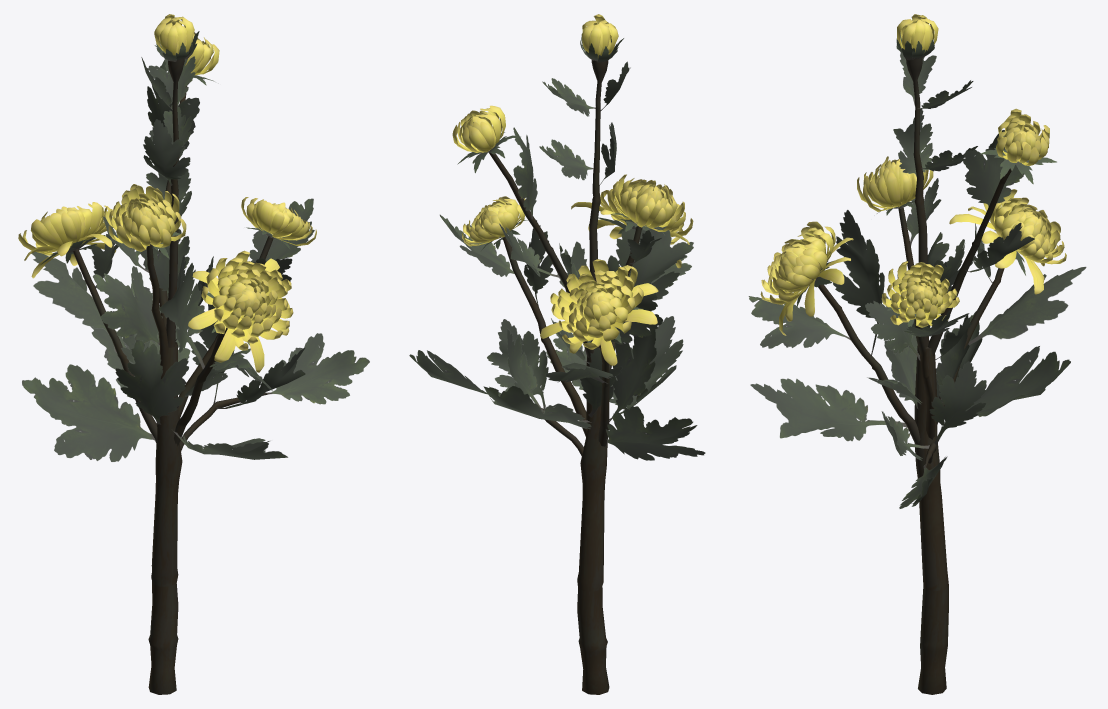
File: chrysanthemum.glb
The picture shows the model from 3 angles, left to right: view 1: azimuth 30°, elevation 25°; view 2: azimuth 150°, elevation 25°; view 3: azimuth 270°, elevation 25°; orthographic projection. The views are drawn at different scales.
Visible parts, largest first — view 1: Gukhwa; view 2: Gukhwa; view 3: Gukhwa.
Part boxes in pixels (x1,y1,x2,y2): Gukhwa: (18,14,369,694); Gukhwa: (409,14,705,694); Gukhwa: (748,14,1086,694).
Size of the model in its own units: 0.2056 by 0.4015 by 0.1892.
1 material, 1 textured.
